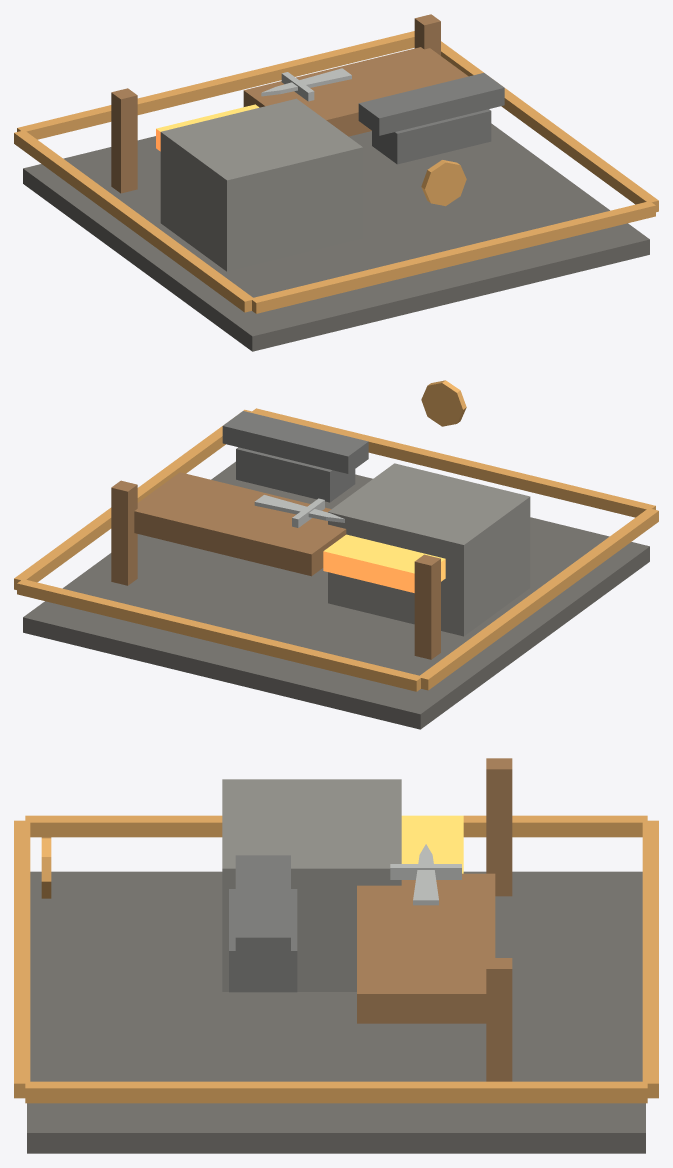
Rendered from t6_weapon_smith.glb.
3 views of the same model, one above another, from view 1: azimuth 30°, elevation 25°; view 2: azimuth 150°, elevation 25°; view 3: azimuth 270°, elevation 25° (orthographic). The views are drawn at different scales.
Parts seen in each view (by area): view 1: FootprintBase, ForgeBody, WorkTable, TierFrontTrim, TierBackTrim, AnvilTop, TierLeftTrim, AnvilBody, TierRightTrim, RackPostL, TierEmblem, RackPostR (+2 smaller); view 2: FootprintBase, ForgeBody, WorkTable, TierBackTrim, TierFrontTrim, AnvilTop, TierLeftTrim, ForgeGlow, AnvilBody, TierRightTrim, RackPostL, RackPostR (+2 smaller); view 3: FootprintBase, ForgeBody, WorkTable, TierRightTrim, TierLeftTrim, AnvilTop, TierBackTrim, TierFrontTrim, RackPostL, RackPostR, AnvilBody, ForgeGlow (+3 smaller).
Boxes of the visible parts, left/top/right/bottom form: FootprintBase: left=23, top=123, right=649, bottom=351; ForgeBody: left=160, top=98, right=362, bottom=271; WorkTable: left=243, top=47, right=468, bottom=136; TierFrontTrim: left=250, top=201, right=655, bottom=313; TierBackTrim: left=17, top=31, right=414, bottom=139; AnvilTop: left=358, top=73, right=504, bottom=135; TierLeftTrim: left=14, top=130, right=254, bottom=312; AnvilBody: left=372, top=109, right=491, bottom=164; TierRightTrim: left=441, top=41, right=658, bottom=212; RackPostL: left=111, top=88, right=137, bottom=193; TierEmblem: left=421, top=160, right=466, bottom=206; RackPostR: left=414, top=14, right=440, bottom=55; FootprintBase: left=23, top=461, right=649, bottom=729; ForgeBody: left=328, top=463, right=530, bottom=636; WorkTable: left=134, top=472, right=346, bottom=576; TierBackTrim: left=17, top=580, right=422, bottom=691; TierFrontTrim: left=251, top=408, right=655, bottom=517; AnvilTop: left=222, top=411, right=368, bottom=473; TierLeftTrim: left=419, top=508, right=658, bottom=690; ForgeGlow: left=323, top=534, right=445, bottom=592; AnvilBody: left=236, top=447, right=355, bottom=502; TierRightTrim: left=14, top=409, right=254, bottom=589; RackPostL: left=414, top=554, right=440, bottom=659; RackPostR: left=111, top=480, right=137, bottom=585; FootprintBase: left=27, top=871, right=645, bottom=1153; ForgeBody: left=222, top=779, right=401, bottom=991; WorkTable: left=357, top=873, right=495, bottom=1023; TierRightTrim: left=25, top=1081, right=647, bottom=1103; TierLeftTrim: left=25, top=815, right=647, bottom=837; AnvilTop: left=235, top=855, right=290, bottom=961; TierBackTrim: left=642, top=820, right=658, bottom=1098; TierFrontTrim: left=14, top=820, right=30, bottom=1098; RackPostL: left=486, top=758, right=512, bottom=896; RackPostR: left=486, top=958, right=512, bottom=1081; AnvilBody: left=229, top=889, right=297, bottom=992; ForgeGlow: left=401, top=815, right=463, bottom=873.
Bounding box in the file's own units: 3.96 × 1.25 × 3.96.
